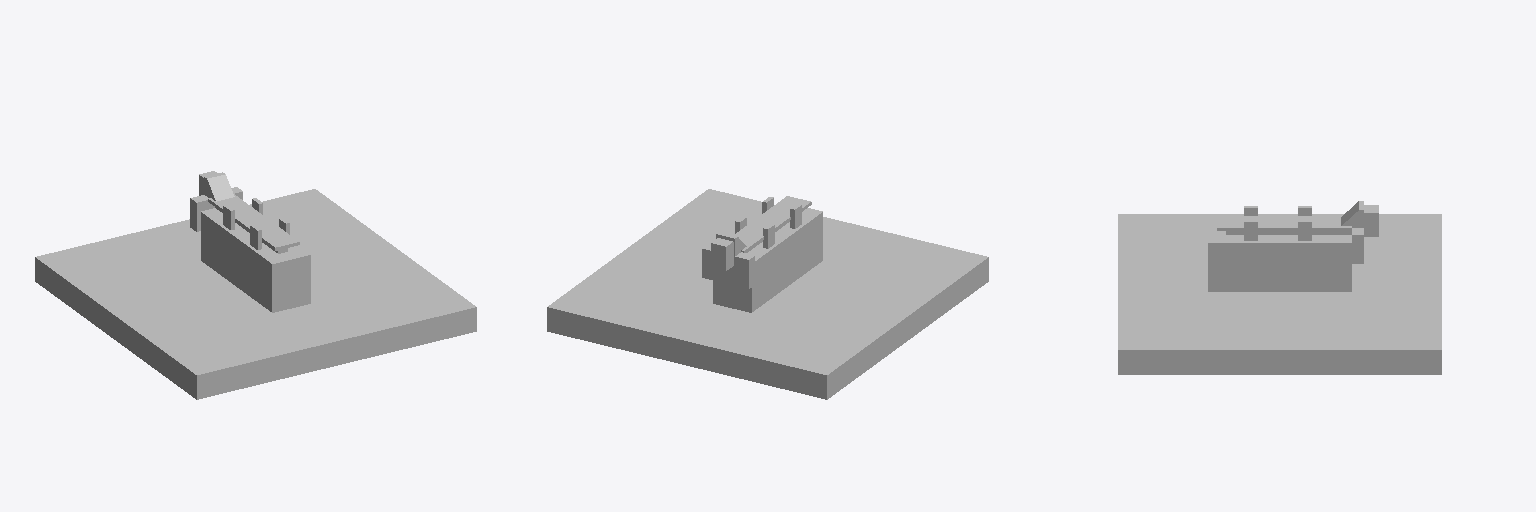
Rendered from Pallet_orig.obj.
The picture shows the model from 3 angles: view 1: azimuth 30°, elevation 25°; view 2: azimuth 150°, elevation 25°; view 3: azimuth 270°, elevation 25°; orthographic projection.
Visible parts, largest first — view 1: Pallet; view 2: Pallet; view 3: Pallet.
Part boxes in pixels (x1,y1,x2,y2): Pallet: (35,171,476,399); Pallet: (547,189,988,399); Pallet: (1118,201,1441,374).
Bounding box in the file's own units: 180 × 62 × 180.